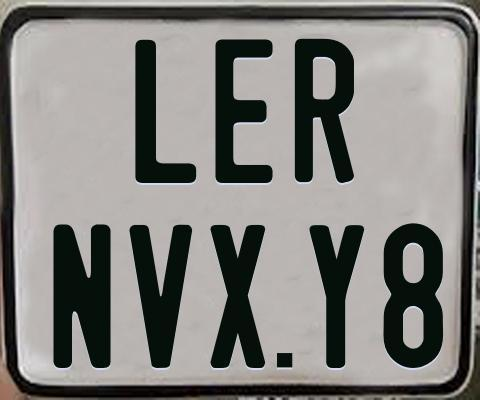8: (383, 220, 448, 369)
E: (214, 38, 273, 186)
L: (132, 39, 198, 186)
N: (51, 222, 114, 371)
R: (292, 36, 357, 180)
V: (127, 222, 191, 369)
X: (209, 222, 266, 369)
Y: (309, 225, 367, 373)
